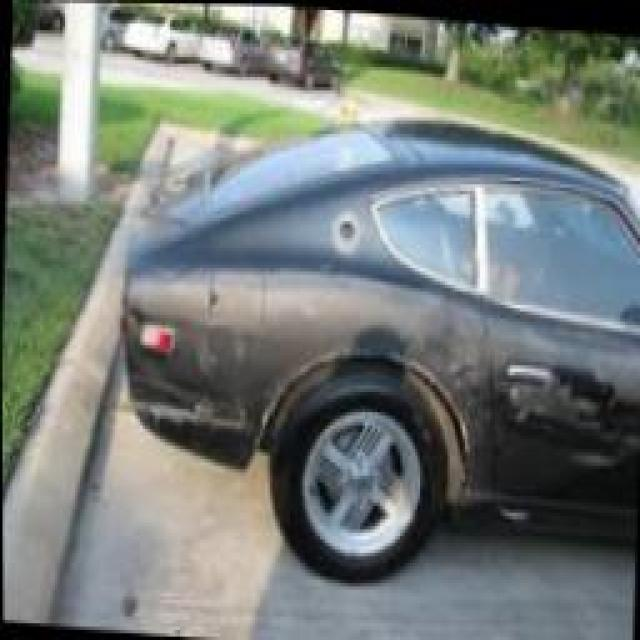Bumper: (124, 359, 283, 472)
Door: (484, 292, 640, 500)
Fender: (165, 187, 498, 500)
